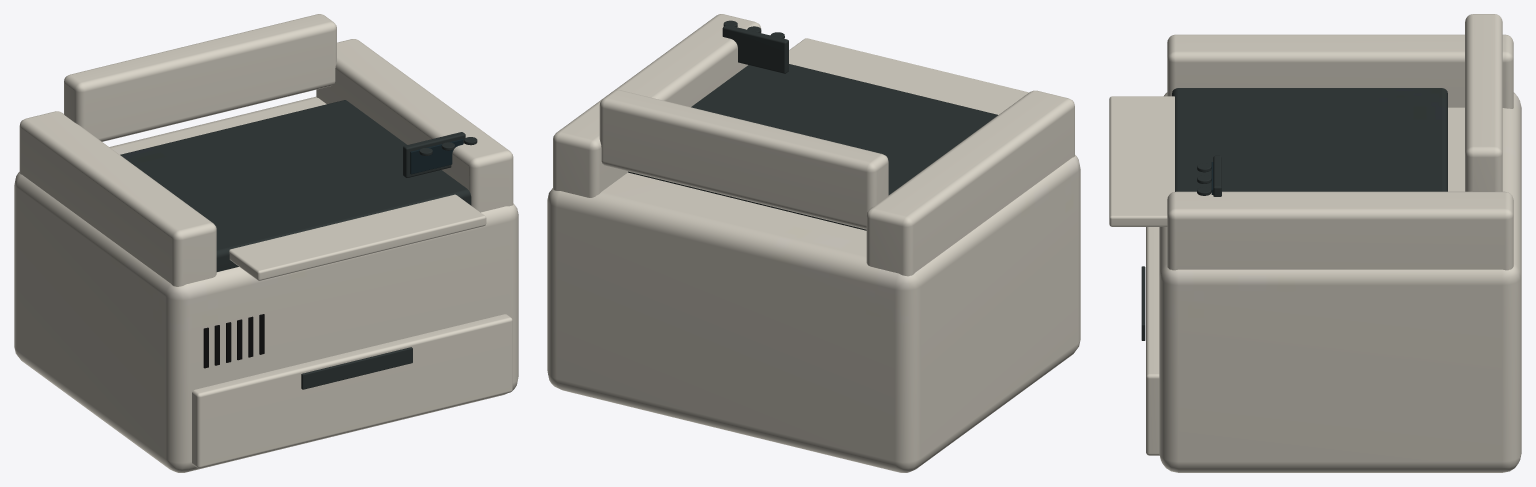
File: printer.glb
The picture shows the model from 3 angles, left to right: view 1: azimuth 30°, elevation 25°; view 2: azimuth 150°, elevation 25°; view 3: azimuth 270°, elevation 25°; orthographic projection. The views are drawn at different scales.
Visible parts, largest first — view 1: Lower printer chassis, Cassette finger recess, Vent slot, Inset display glass; view 2: Lower printer chassis, Cassette finger recess; view 3: Lower printer chassis, Cassette finger recess.
Part boxes in pixels (x1,y1,x2,y2): Lower printer chassis: (14, 14, 518, 472); Cassette finger recess: (120, 100, 477, 389); Vent slot: (203, 314, 264, 368); Inset display glass: (410, 139, 463, 174); Lower printer chassis: (547, 14, 1080, 472); Cassette finger recess: (628, 20, 997, 230); Lower printer chassis: (1109, 14, 1521, 472); Cassette finger recess: (1141, 88, 1447, 340).
Bounding box in the file's own units: 0.362 × 0.2775 × 0.339.
Materials: 4 (4 with a texture image).
